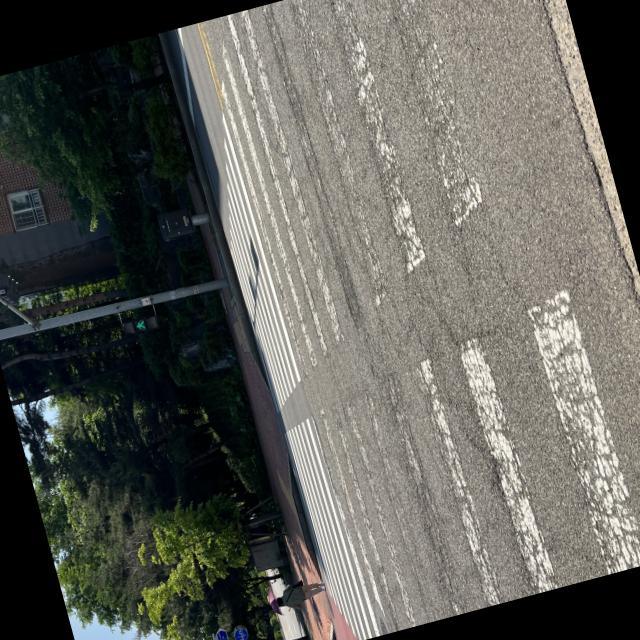green_light: (120, 307, 164, 340)
zebra: (154, 0, 640, 640)
